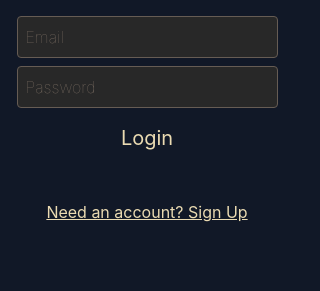
Test: Login › toggle: switches between login and sign up
Expected: the field with placeholder "Username" is not shown
Click the button "Need an account? Sign Up": (147, 212) left=46, top=200, right=248, bottom=224
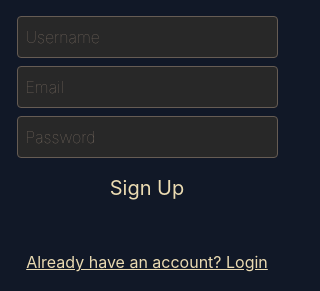
Result: the field with placeholder "Username" is shown at left=16, top=16, right=278, bottom=58
Click the button "Already have an account? Login": (147, 262) left=26, top=250, right=268, bottom=274
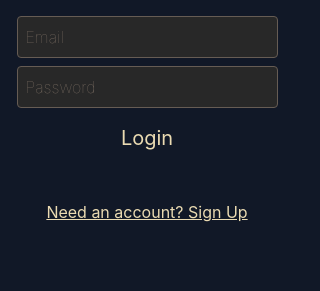
Result: the field with placeholder "Username" is gone
